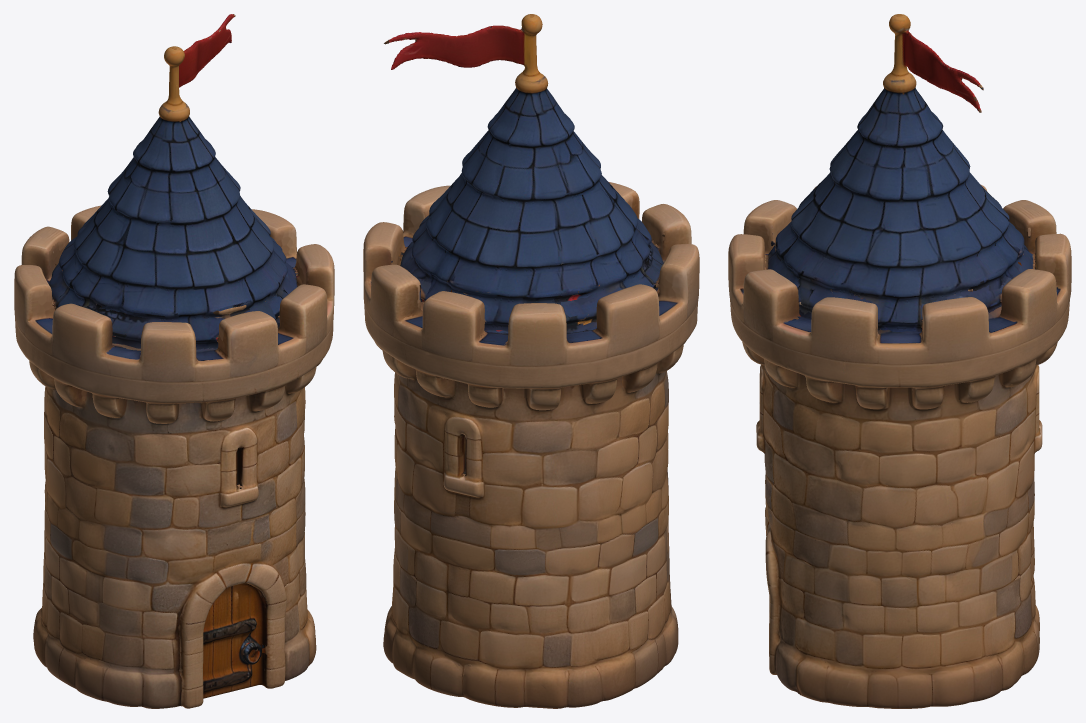
File: ck_tower.glb
3 renders of one model, left to right at view 1: azimuth 30°, elevation 25°; view 2: azimuth 150°, elevation 25°; view 3: azimuth 270°, elevation 25°, orthographic. The views are drawn at different scales.
Visible parts, largest first — view 1: ck_tower; view 2: ck_tower; view 3: ck_tower.
Part boxes in pixels (bbox=[...]): ck_tower: bbox=[14, 14, 334, 708]; ck_tower: bbox=[363, 14, 699, 708]; ck_tower: bbox=[728, 14, 1071, 708].
Bounding box in the file's own units: 0.9333 × 1.97 × 0.9644.
1 material, 1 textured.
